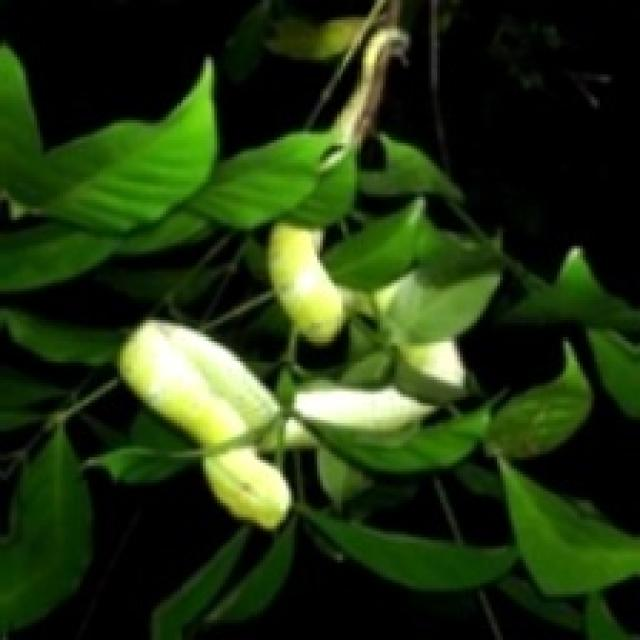north ph temple pitviper: (121, 320, 432, 529), (269, 222, 400, 343), (332, 26, 406, 148), (401, 340, 462, 389)
